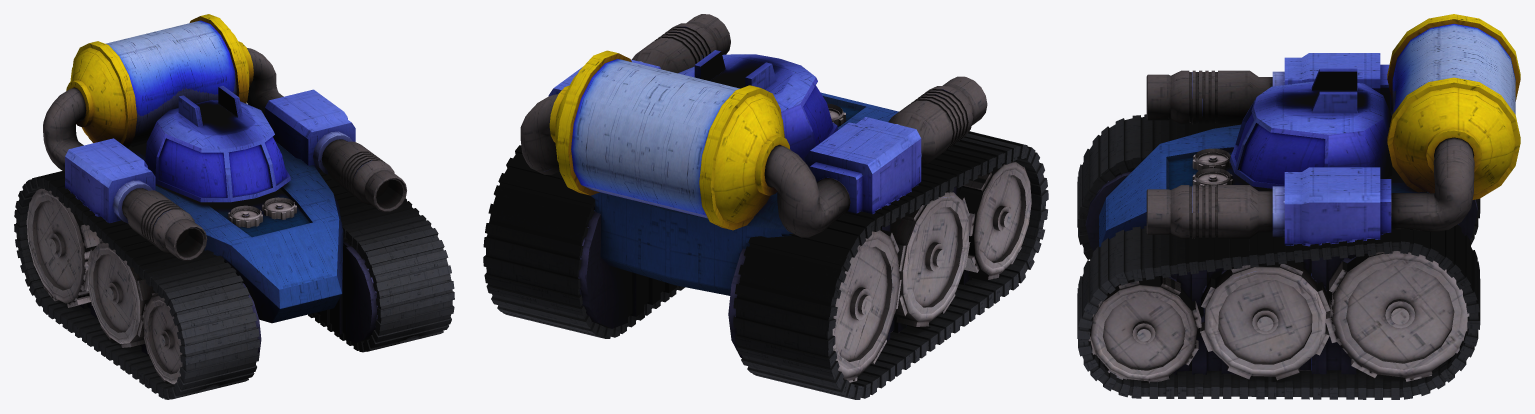
Rendered from PlayerB10.obj.
The picture shows the model from 3 angles, left to right: view 1: azimuth 30°, elevation 25°; view 2: azimuth 150°, elevation 25°; view 3: azimuth 270°, elevation 25°; orthographic projection. The views are drawn at different scales.
Visible parts, largest first — view 1: Object001, Box042, Object004, Object003, Object002; view 2: Object001, Box042, Object003, Object004, Object002; view 3: Object001, Box042, Object004, Object003, Object002.
Part boxes in pixels (<box>): Object001: <box>43,14,406,356</box>; Box042: <box>14,171,454,399</box>; Object004: <box>26,188,99,307</box>; Object003: <box>87,238,154,347</box>; Object002: <box>142,292,182,384</box>; Object001: <box>520,14,987,357</box>; Box042: <box>483,131,1048,399</box>; Object003: <box>890,191,970,326</box>; Object004: <box>832,229,901,382</box>; Object002: <box>958,161,1031,279</box>; Object001: <box>1085,14,1520,374</box>; Box042: <box>1077,114,1480,399</box>; Object004: <box>1326,251,1469,381</box>; Object003: <box>1200,260,1330,380</box>; Object002: <box>1088,276,1201,383</box>.
Size of the model in its own units: 121 by 100 by 147.
Materials: 2 (2 with a texture image).
